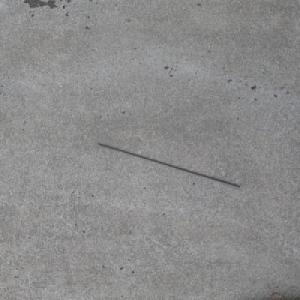LuggagePart: (96, 143, 241, 188)
